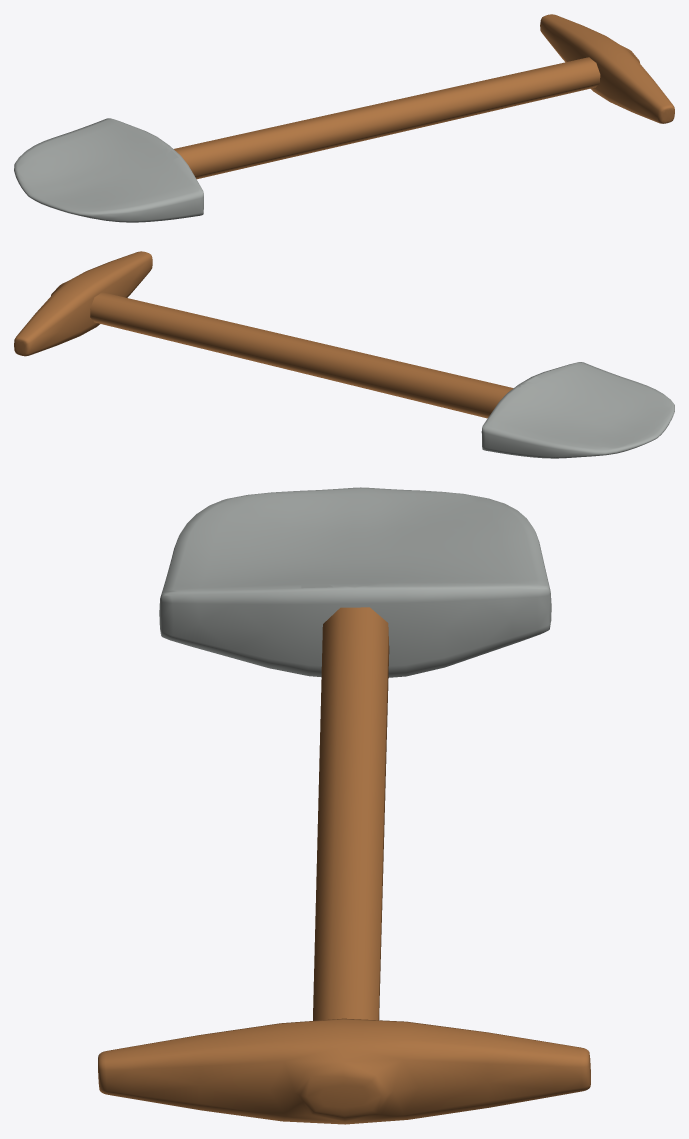
The model's file is pala.fbx.
3 renders of one model, top to bottom at view 1: azimuth 30°, elevation 25°; view 2: azimuth 150°, elevation 25°; view 3: azimuth 270°, elevation 25°, orthographic. The views are drawn at different scales.
Visible parts, largest first — view 1: Object03; view 2: Object03; view 3: Object03.
Boxes of the visible parts, box(x1,y1,x2,y2) form: Object03: box(14, 14, 674, 222); Object03: box(14, 251, 674, 458); Object03: box(98, 487, 590, 1124).
Size of the model in its own units: 0.8522 by 0.0681 by 0.3031.
